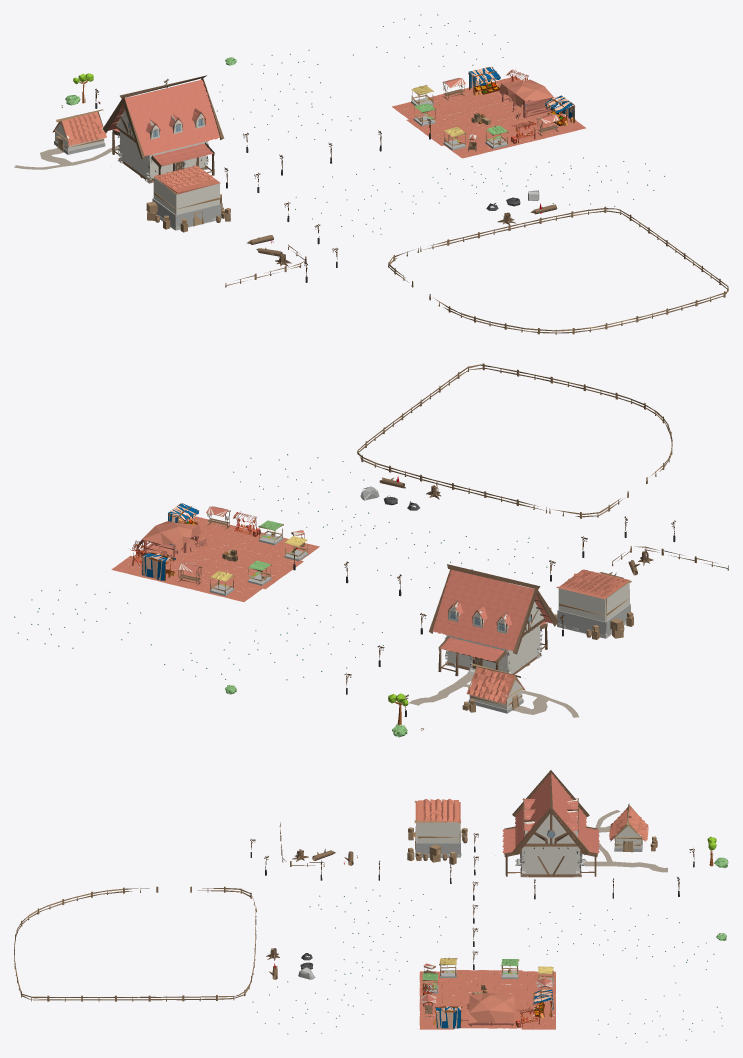
File: chunk_2_1_lod1.glb
The picture shows the model from 3 angles, top to bottom: view 1: azimuth 30°, elevation 25°; view 2: azimuth 150°, elevation 25°; view 3: azimuth 270°, elevation 25°; orthographic projection. The views are drawn at different scales.
Visible parts, largest first — view 1: Batched_chunk_2_1_lod1; view 2: Batched_chunk_2_1_lod1; view 3: Batched_chunk_2_1_lod1.
Boxes of the visible parts, left/top/right/bottom form: Batched_chunk_2_1_lod1: left=14, top=14, right=728, bottom=334; Batched_chunk_2_1_lod1: left=14, top=363, right=728, bottom=737; Batched_chunk_2_1_lod1: left=14, top=770, right=728, bottom=1043.
Bounding box in the file's own units: 104 × 16.75 × 135.
Materials: 53 (2 with a texture image).
